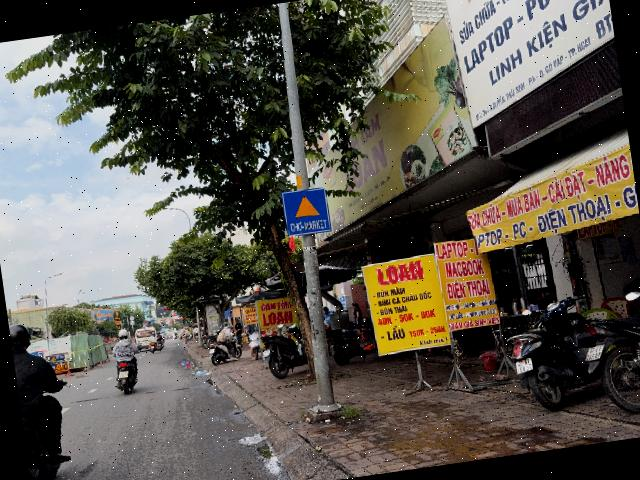khu-vuc-cho-phia-truoc: (281, 186, 332, 238)
